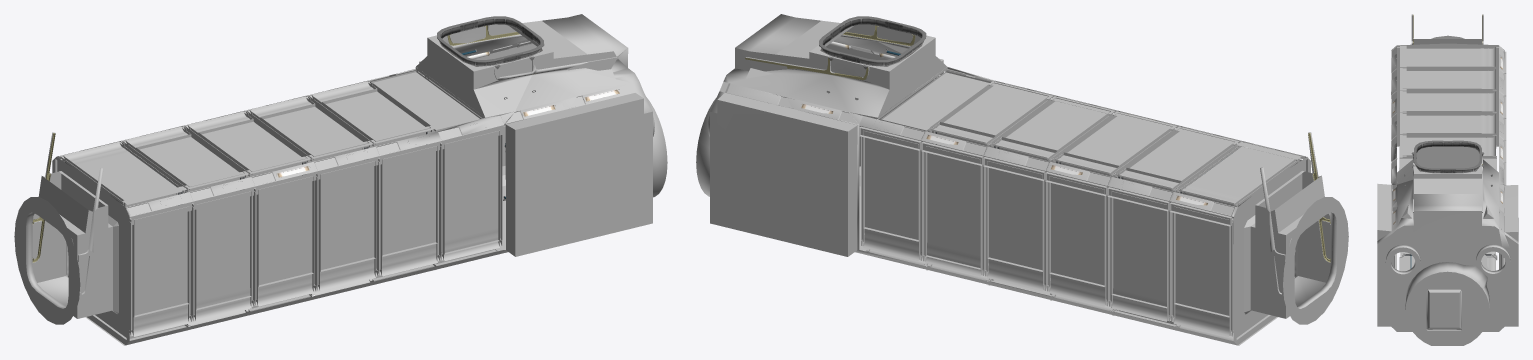
The model's file is jpm.dae.
3 views of the same model, side by side, from view 1: azimuth 30°, elevation 25°; view 2: azimuth 150°, elevation 25°; view 3: azimuth 270°, elevation 25° (orthographic). The views are drawn at different scales.
Visible parts, largest first — view 1: JPM_CollapsedForUnity_Starboard; view 2: JPM_CollapsedForUnity_Starboard; view 3: JPM_CollapsedForUnity_Starboard.
Boxes of the visible parts, bbox=[...] form: JPM_CollapsedForUnity_Starboard: bbox=[14, 14, 667, 345]; JPM_CollapsedForUnity_Starboard: bbox=[696, 14, 1348, 345]; JPM_CollapsedForUnity_Starboard: bbox=[1377, 14, 1518, 345].
Bounding box in the file's own units: 10.17 × 2.86 × 3.08.
